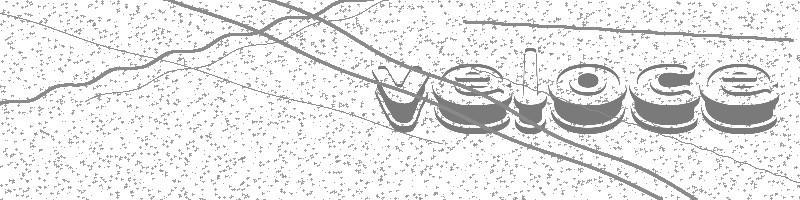c: (630, 64, 699, 135)
e: (432, 64, 514, 134), (701, 64, 780, 134)
l: (513, 48, 548, 132)
o: (549, 64, 627, 133)
v: (372, 66, 428, 132)
